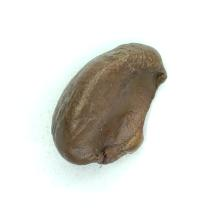NG: (85, 68, 168, 163)
